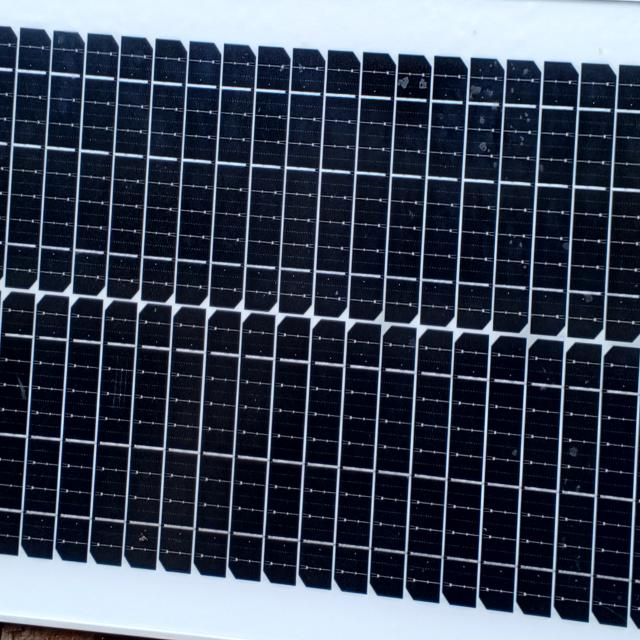Clean: (2, 3, 640, 620)
